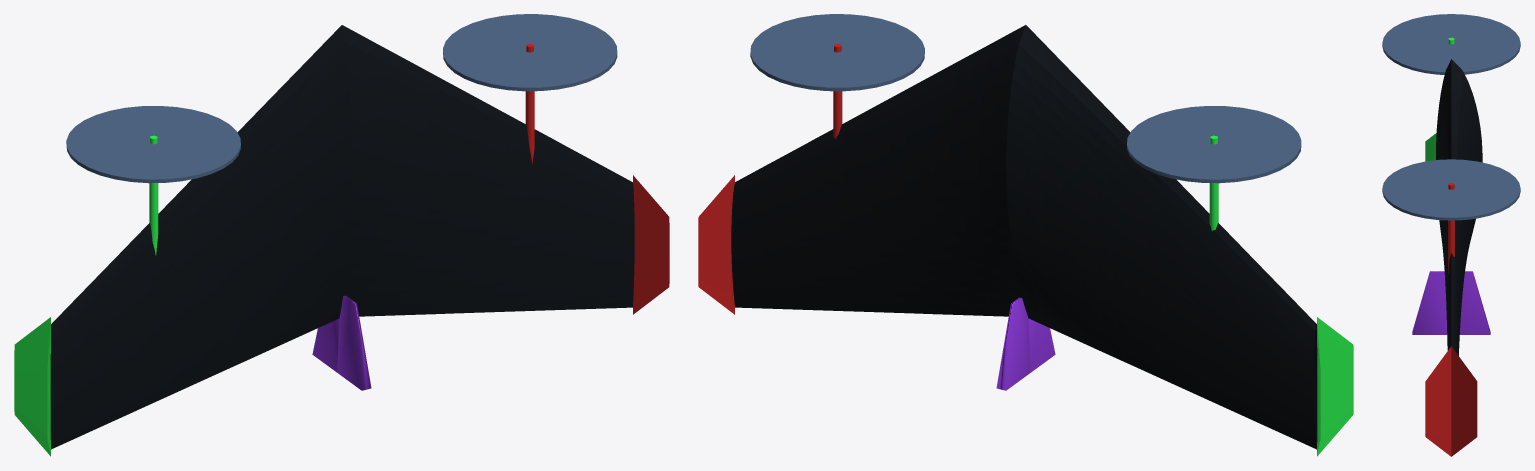
The model's file is px4_tailsitter.obj.
3 views of the same model, side by side, from view 1: azimuth 30°, elevation 25°; view 2: azimuth 150°, elevation 25°; view 3: azimuth 270°, elevation 25° (orthographic). The views are drawn at different scales.
Visible parts, largest first — view 1: body_dark_0, prop_grey_6, green_metal_2, red_metal_1, purple_metal_3; view 2: body_dark_0, prop_grey_6, green_metal_2, red_metal_1, purple_metal_3; view 3: prop_grey_6, body_dark_0, red_metal_1, purple_metal_3, green_metal_2.
Part boxes in pixels (x1,y1,x2,y2): body_dark_0: (50, 25, 634, 449); prop_grey_6: (66, 14, 617, 183); green_metal_2: (14, 135, 158, 456); red_metal_1: (525, 44, 669, 314); purple_metal_3: (312, 295, 371, 390); body_dark_0: (731, 25, 1317, 449); prop_grey_6: (750, 14, 1301, 183); green_metal_2: (1209, 135, 1353, 456); red_metal_1: (698, 44, 842, 314); purple_metal_3: (996, 297, 1055, 390); prop_grey_6: (1382, 14, 1520, 220); body_dark_0: (1436, 59, 1482, 355); red_metal_1: (1425, 183, 1477, 456); purple_metal_3: (1412, 271, 1490, 334); green_metal_2: (1425, 37, 1454, 161).
Size of the model in its own units: 1.09 by 0.6052 by 0.2656.
